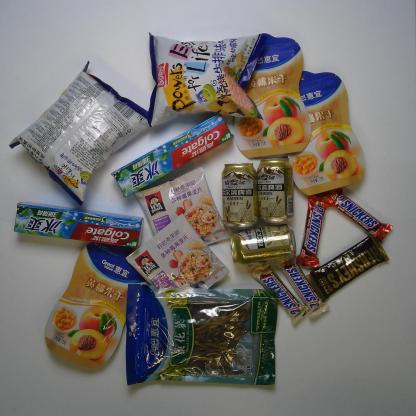Alcohol: (231, 222, 296, 267), (221, 160, 259, 230), (258, 157, 296, 225)
Chocolate: (303, 233, 392, 303), (325, 184, 393, 244), (251, 260, 306, 324), (284, 261, 328, 319), (296, 193, 330, 268)
Dried Food: (123, 280, 282, 388)
Dried Fruit: (45, 242, 152, 370), (285, 70, 367, 195), (233, 32, 311, 158)
Instant Drink: (123, 214, 230, 300), (134, 167, 230, 248)
Personal Hygiene: (111, 112, 234, 197), (14, 200, 143, 251)
Puffed Food: (9, 59, 151, 206), (146, 30, 272, 126)
